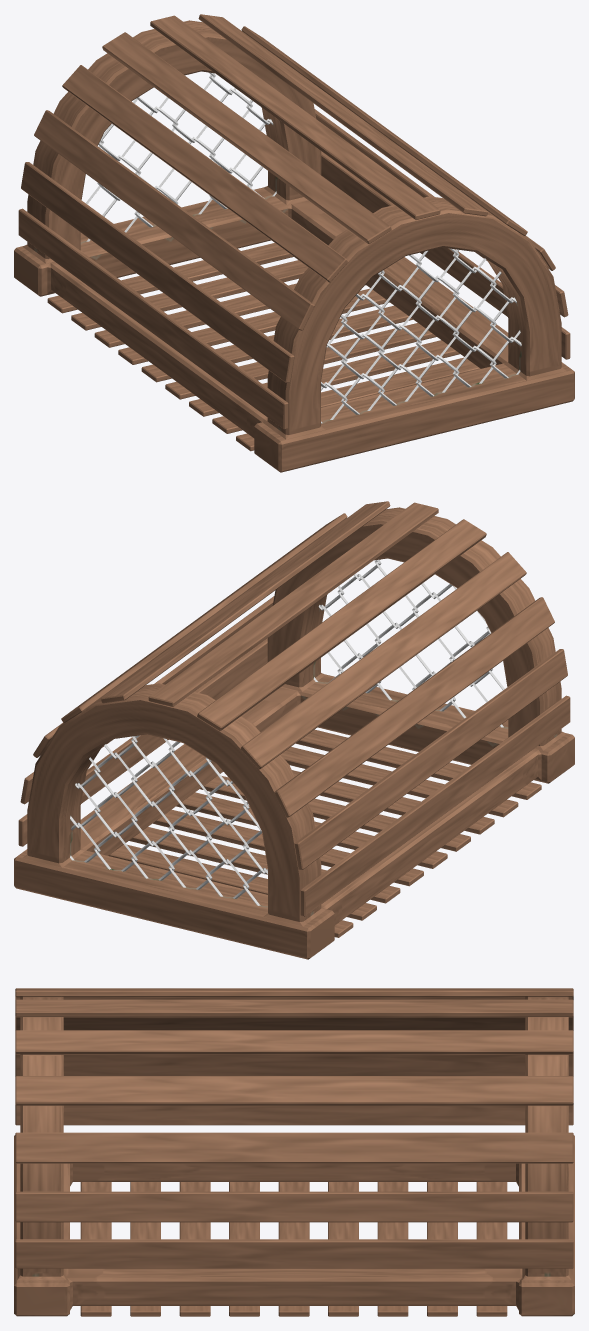
The model's file is nasse a crabe.fbx.
3 renders of one model, top to bottom at view 1: azimuth 30°, elevation 25°; view 2: azimuth 150°, elevation 25°; view 3: azimuth 270°, elevation 25°, orthographic. The views are drawn at different scales.
Visible parts, largest first — view 1: Cylinder.001; view 2: Cylinder.001; view 3: Cylinder.001.
Boxes of the visible parts, left/top/right/bottom form: Cylinder.001: left=14, top=14, right=574, bottom=472; Cylinder.001: left=14, top=501, right=574, bottom=959; Cylinder.001: left=14, top=988, right=574, bottom=1316.
Size of the model in its own units: 215 by 157 by 335.
Materials: 2 (1 with a texture image).
